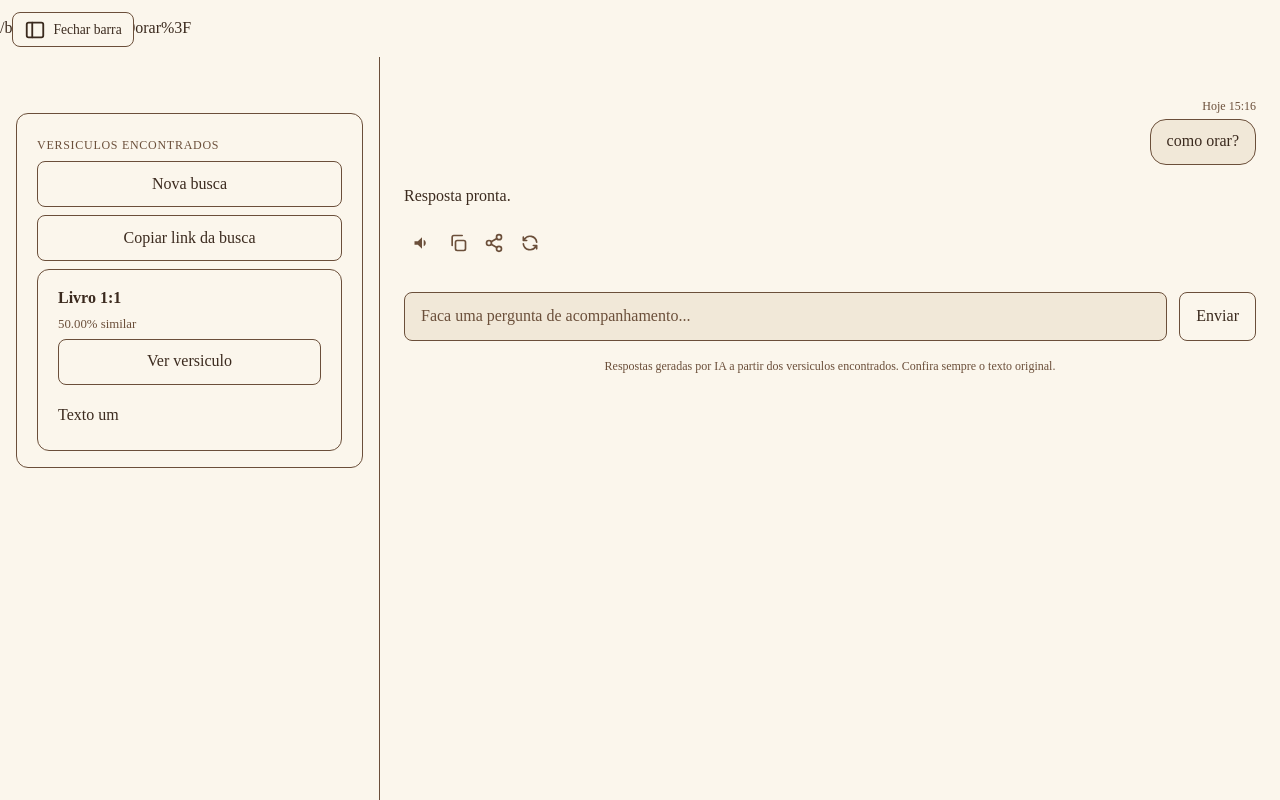
copiar link da busca › copia o endereco completo da busca e avisa
Expected: the text "Resposta pronta." is shown, [404,187,511,204]
Click the button "Copiar link da busca" at (190, 238), box [37,215,342,261]
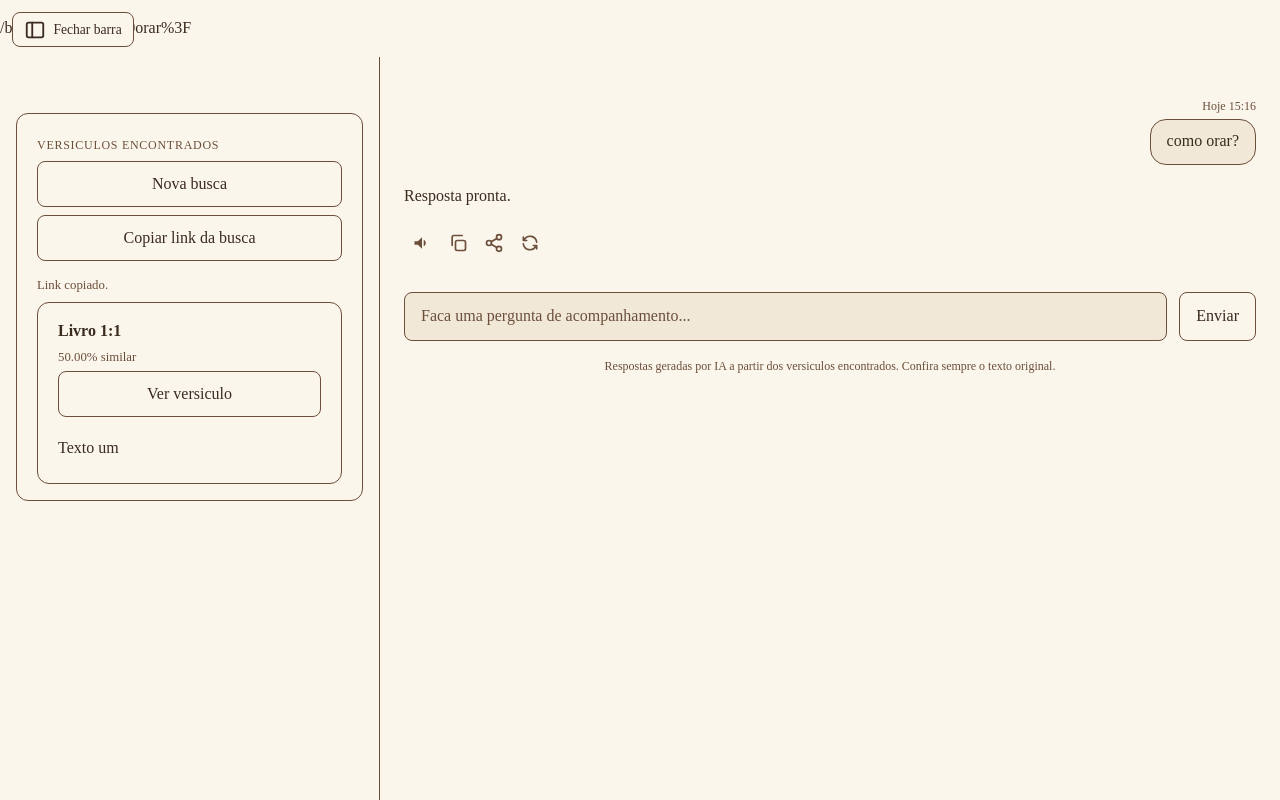
Result: the message reads "Link copiado." at [37,278,108,292]
